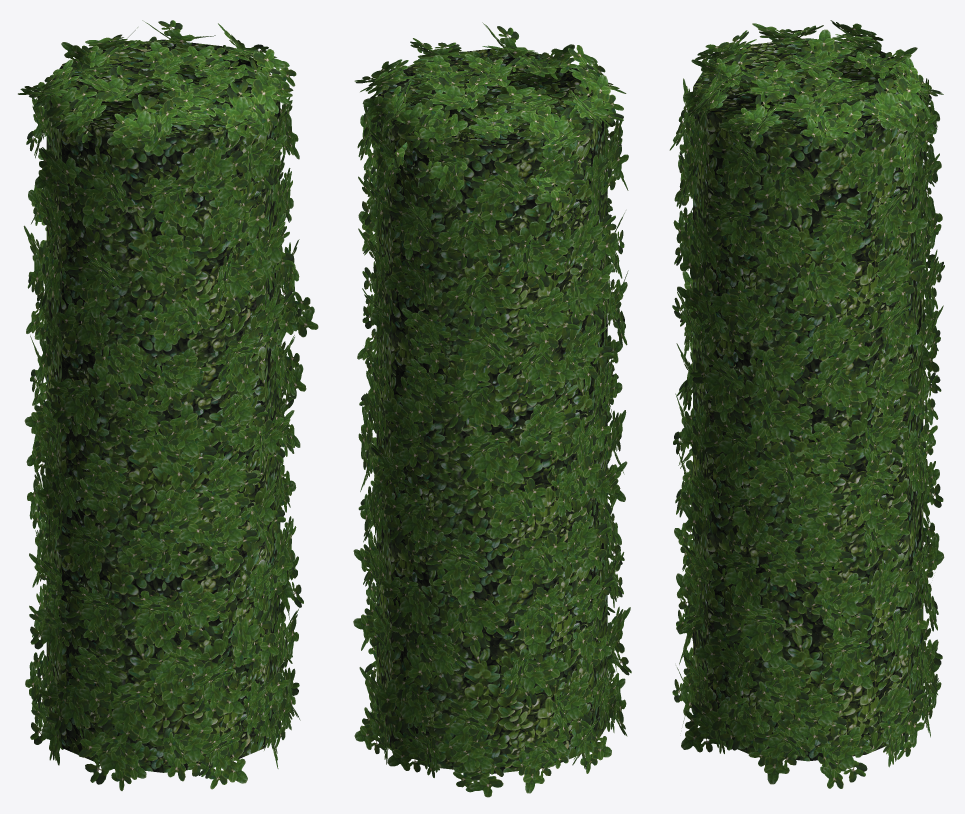
Rendered from hedge_shape_D.FBX.
The picture shows the model from 3 angles, left to right: view 1: azimuth 30°, elevation 25°; view 2: azimuth 150°, elevation 25°; view 3: azimuth 270°, elevation 25°; orthographic projection.
Parts seen in each view (by area): view 1: hedge_shape_D; view 2: hedge_shape_D; view 3: hedge_shape_D.
Part boxes in pixels (x1,y1,x2,y2): hedge_shape_D: (18, 20, 318, 790); hedge_shape_D: (353, 22, 631, 797); hedge_shape_D: (669, 20, 944, 788).
Size of the model in its own units: 77.4 by 201 by 73.84.
